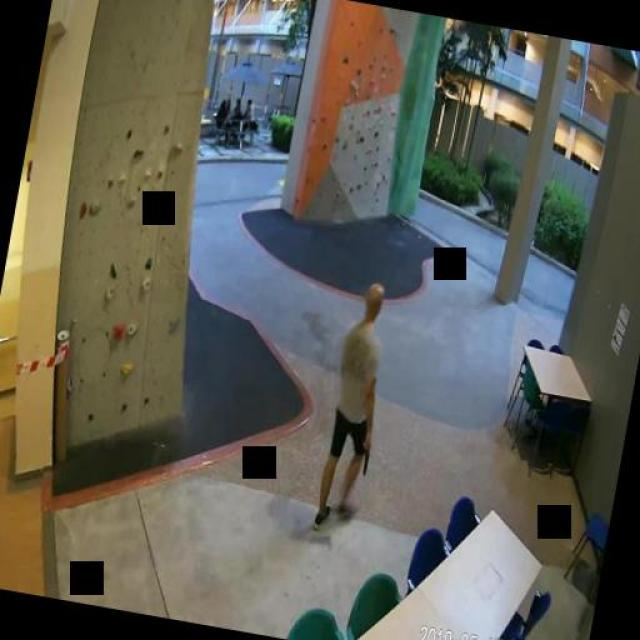gun: (351, 433, 374, 478)
